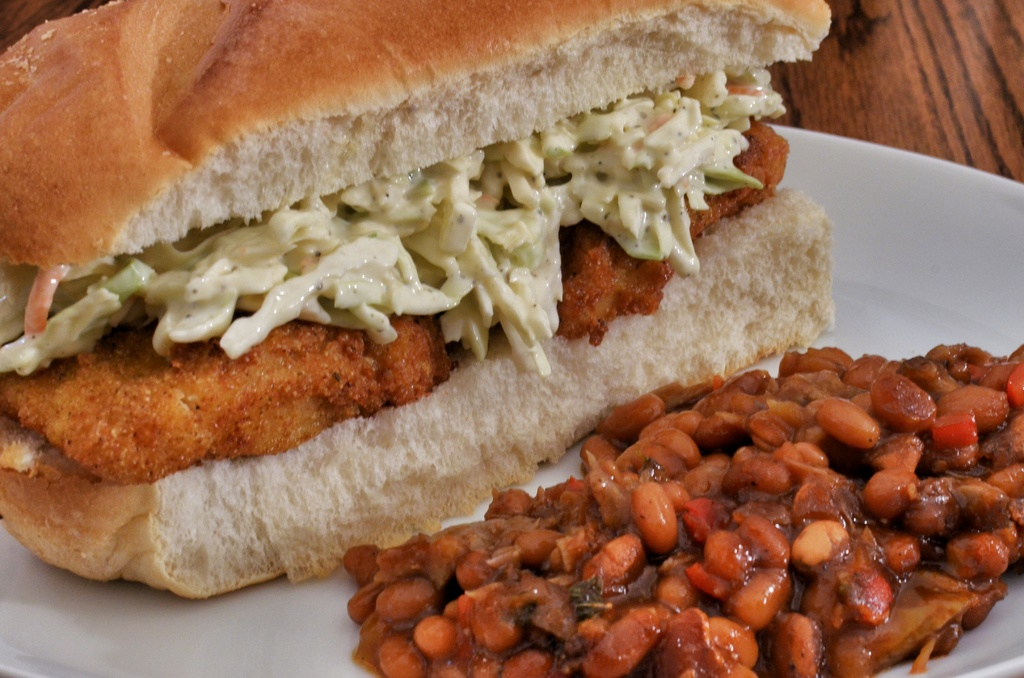Hamburger: (0, 0, 832, 602)
